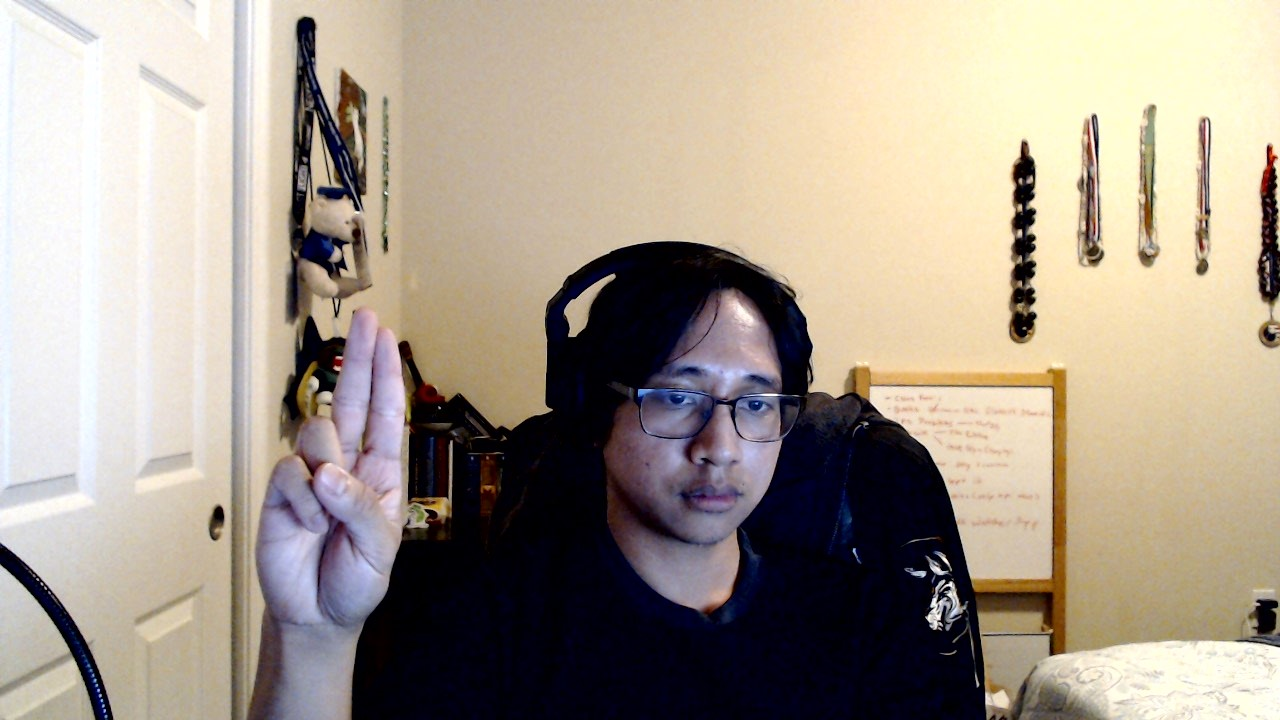u: (254, 302, 406, 629)
